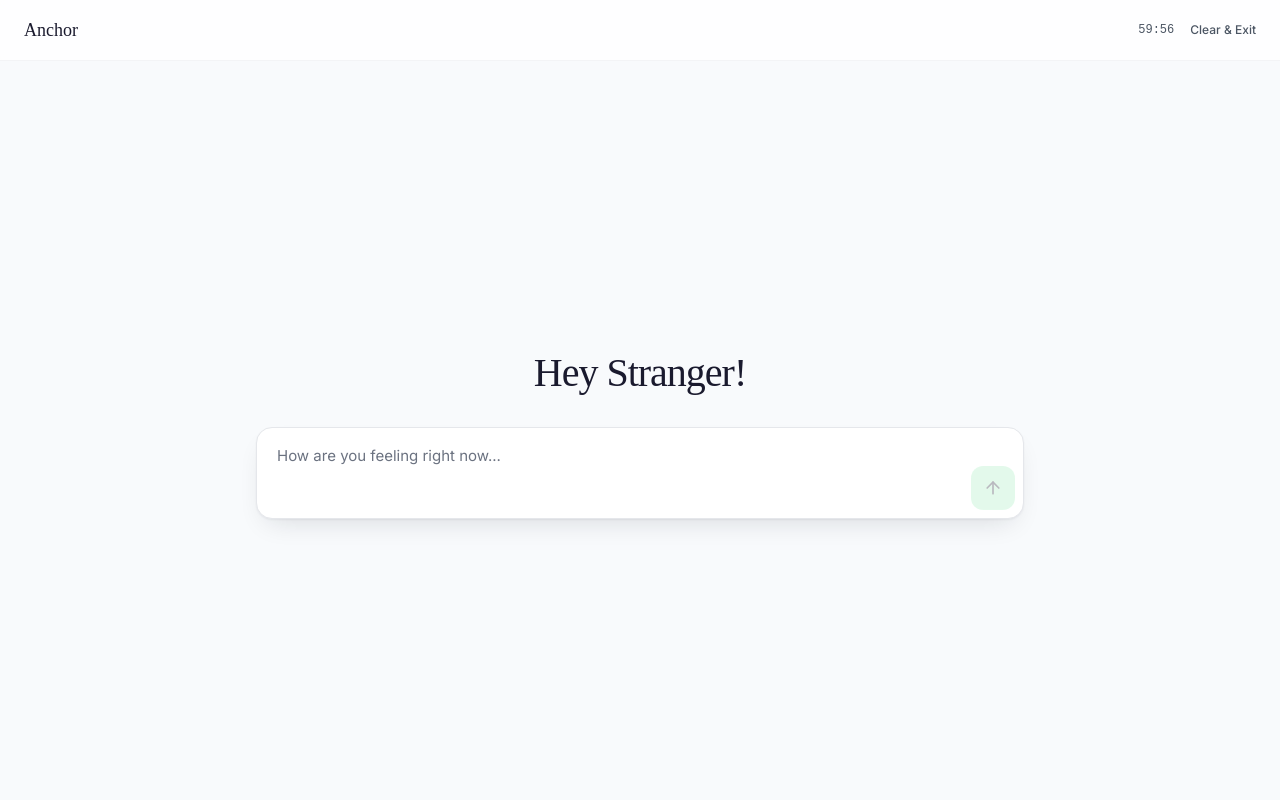
Scenario: Chat – Breathing widget signalling › leaves an ordinary reply without a timer
This screenshot has width=1280, height=800.
Type "hello" into the text box with placeholder "How are you feeling right now..." at (614,472), box x1=265 y1=436 x2=963 y2=510
Then press Enter
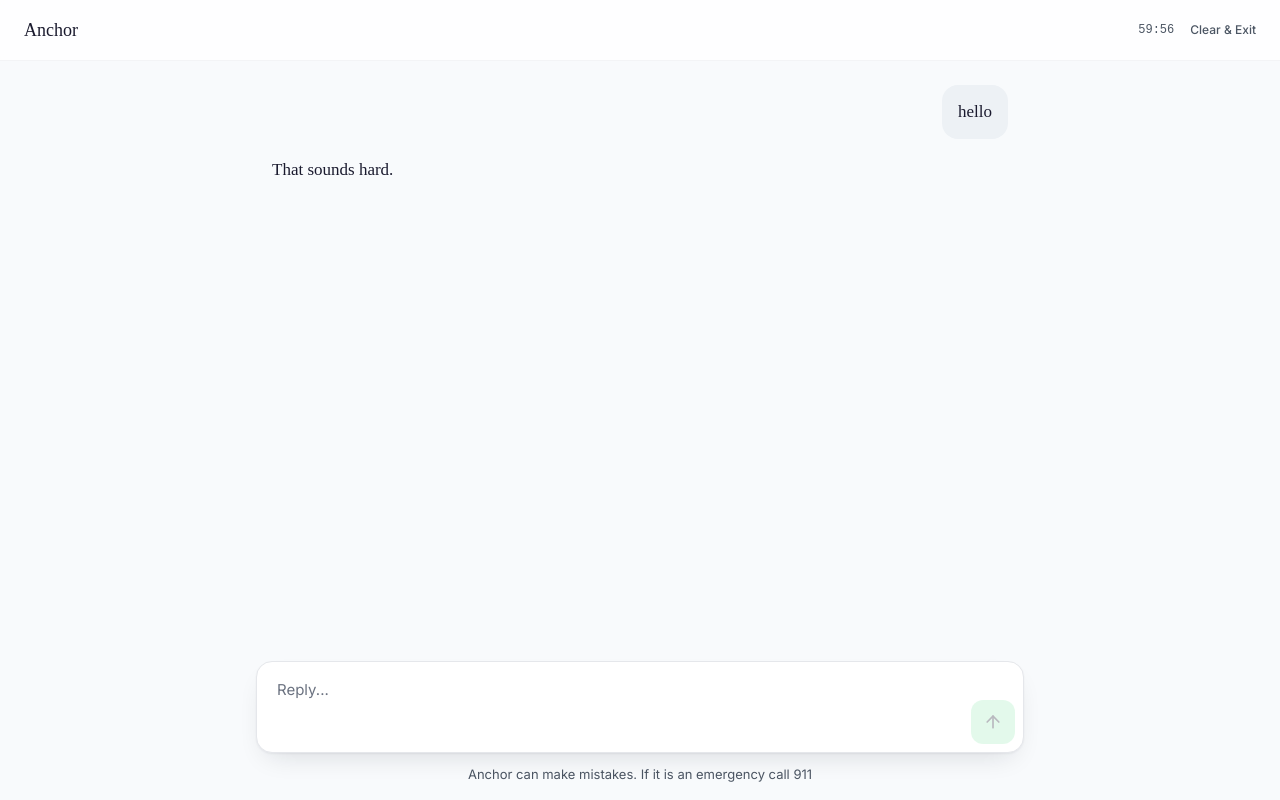
Now the text "That sounds hard." is shown, box x1=272 y1=160 x2=393 y2=179
